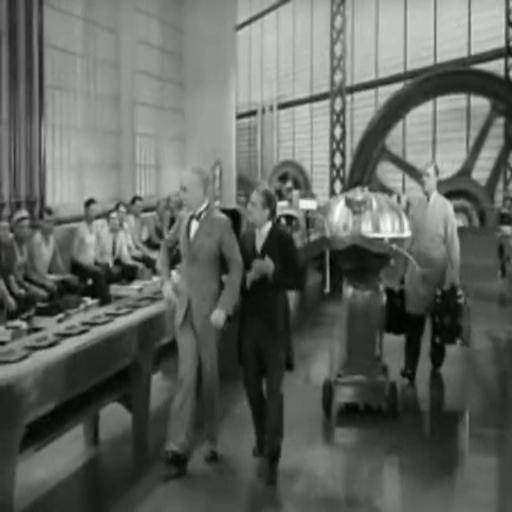nao-violencia: (154, 164, 315, 494)
